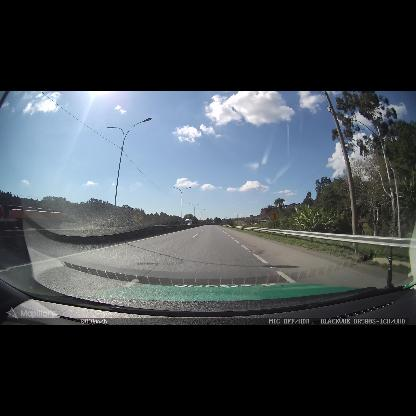A-32a: (269, 210, 280, 224)
